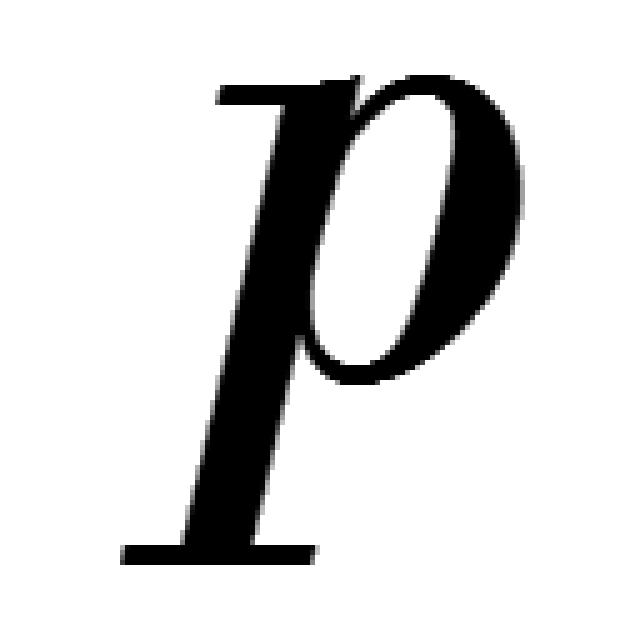P: (120, 75, 525, 565)
